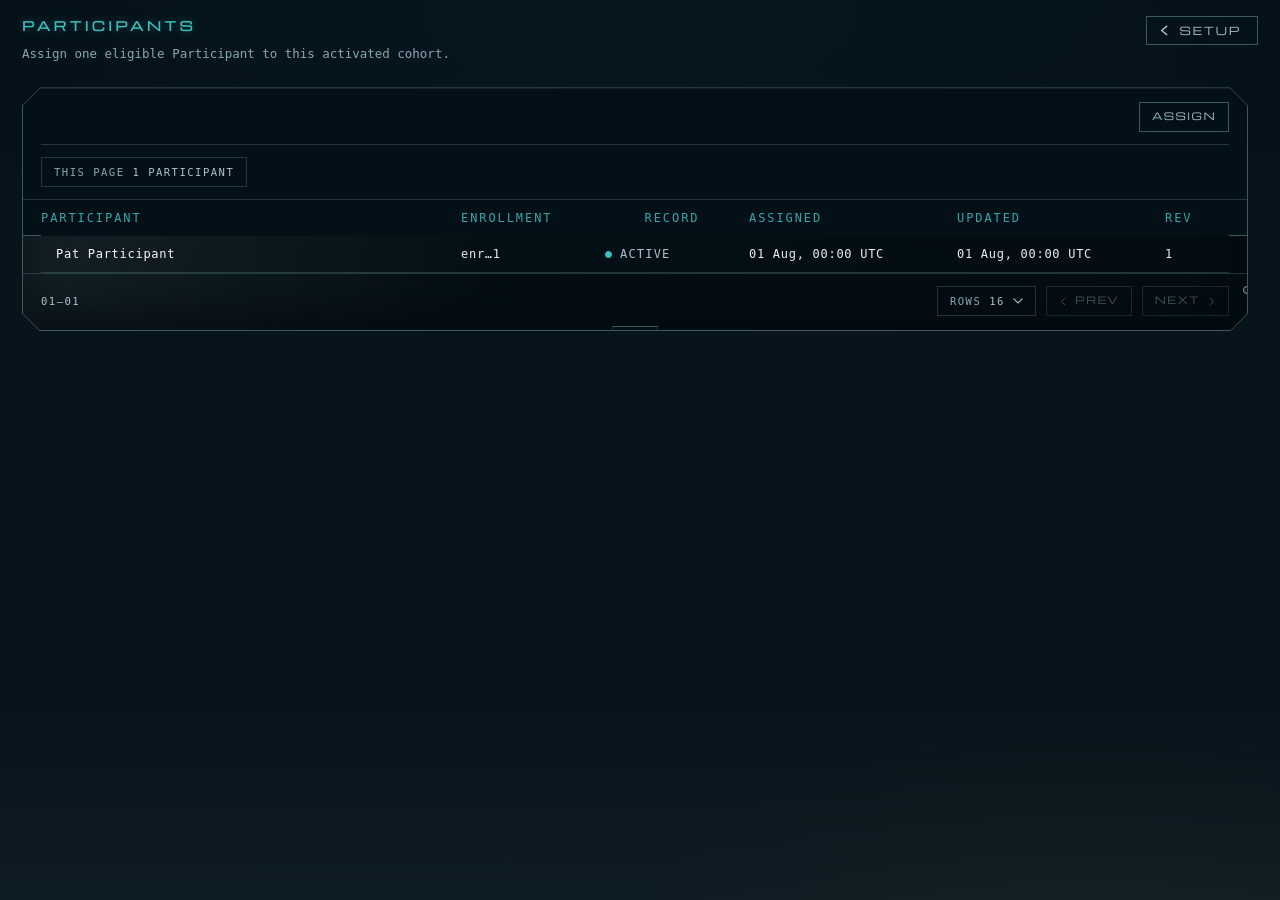
Test case: ProductionEnrollmentPage › assigns from a dialog table that still lists Participants already on the roster
Expected: the link "Pat Participant" is shown, 56,247 -> 175,261
Click the button "Assign": (1184, 117) 1139,102 -> 1229,132
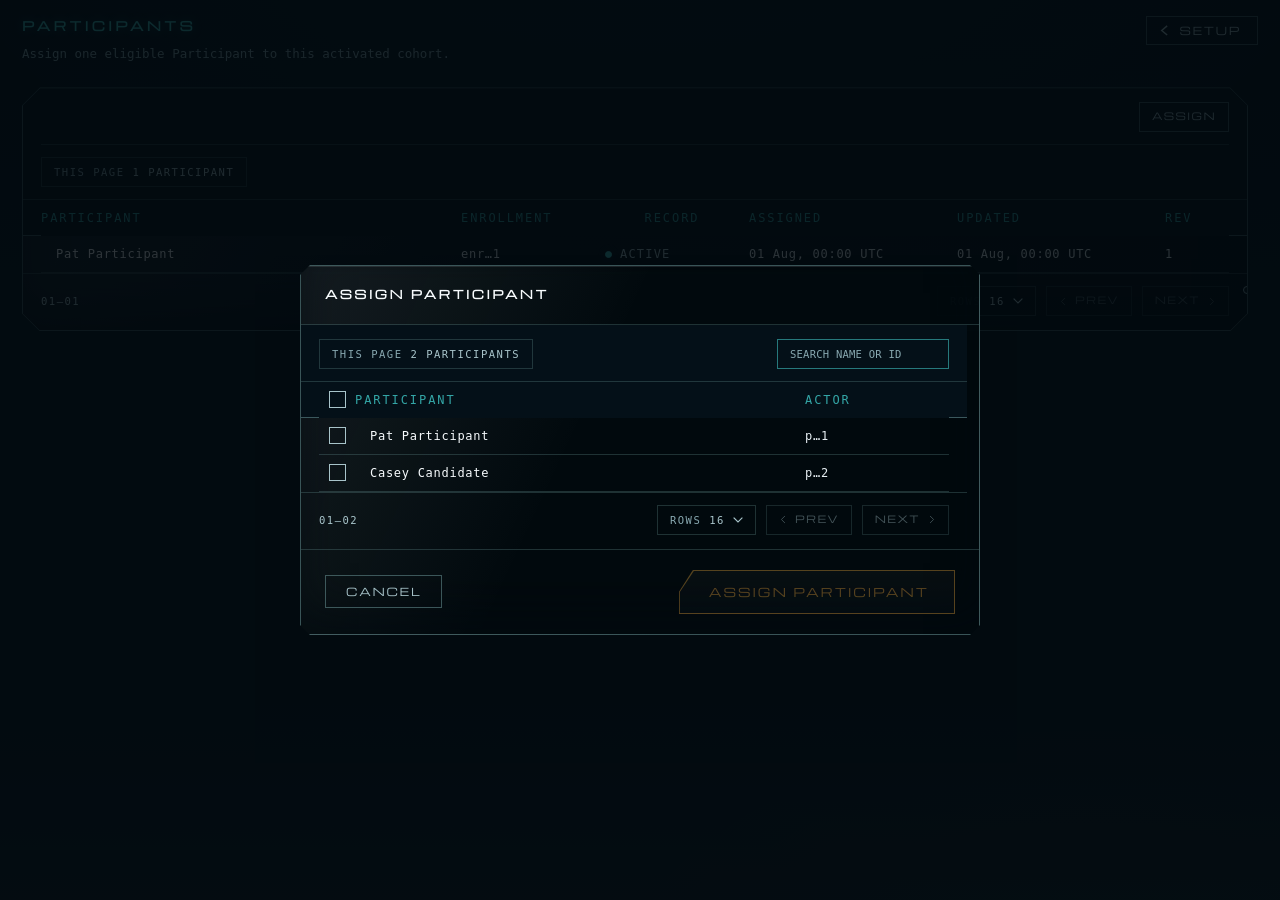
Expected: the element with class "dialog-plate--wide" is shown, 300,265 -> 980,635
Expected: the table named "Assignable Participants" is shown, 319,382 -> 949,492
Expected: the text "Participant" is shown, 355,393 -> 456,407
Hover over the text "p…2": (817, 476) 805,466 -> 829,486
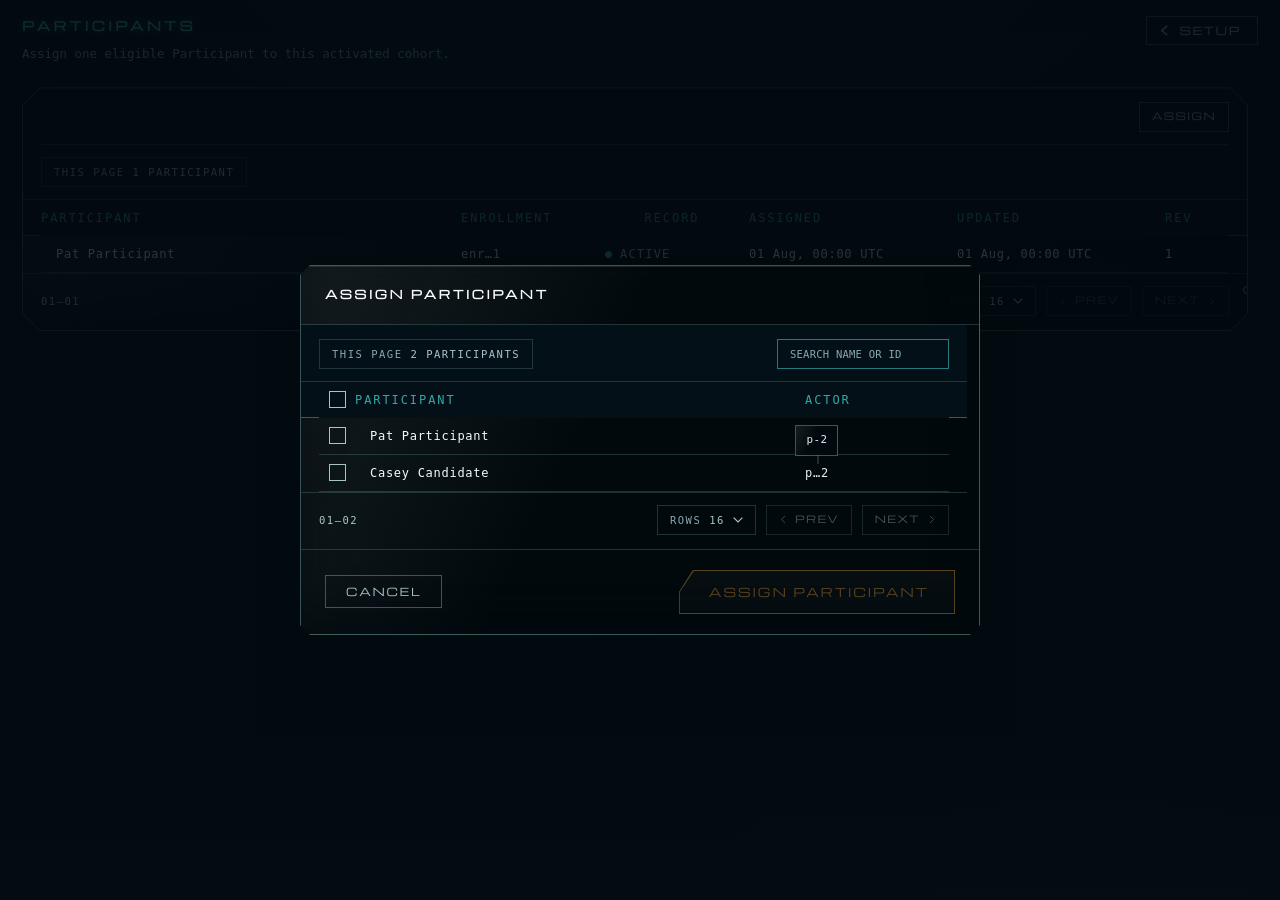
Expected: the tooltip reads "p-2", 806,433 -> 827,446
Hover over the element named "Select all visible participants" in the row of "Actor": (337, 400) 328,391 -> 346,408
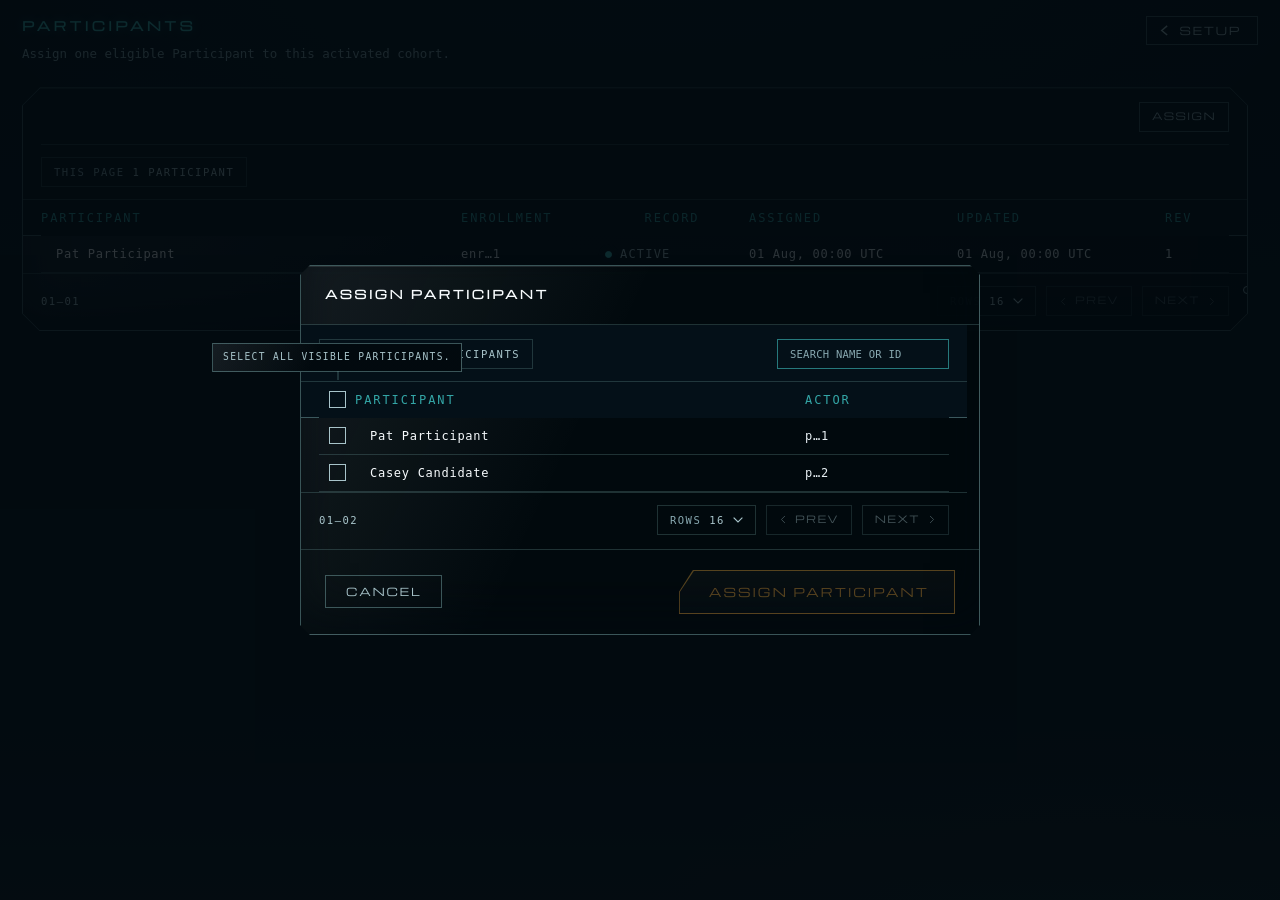
Expected: the button "Assign Participant" is disabled, 679,570 -> 955,614
Expected: the tooltip shows "Select all visible participants", 223,351 -> 451,362
Click the button "Casey Candidate": (422, 473) 355,466 -> 489,480
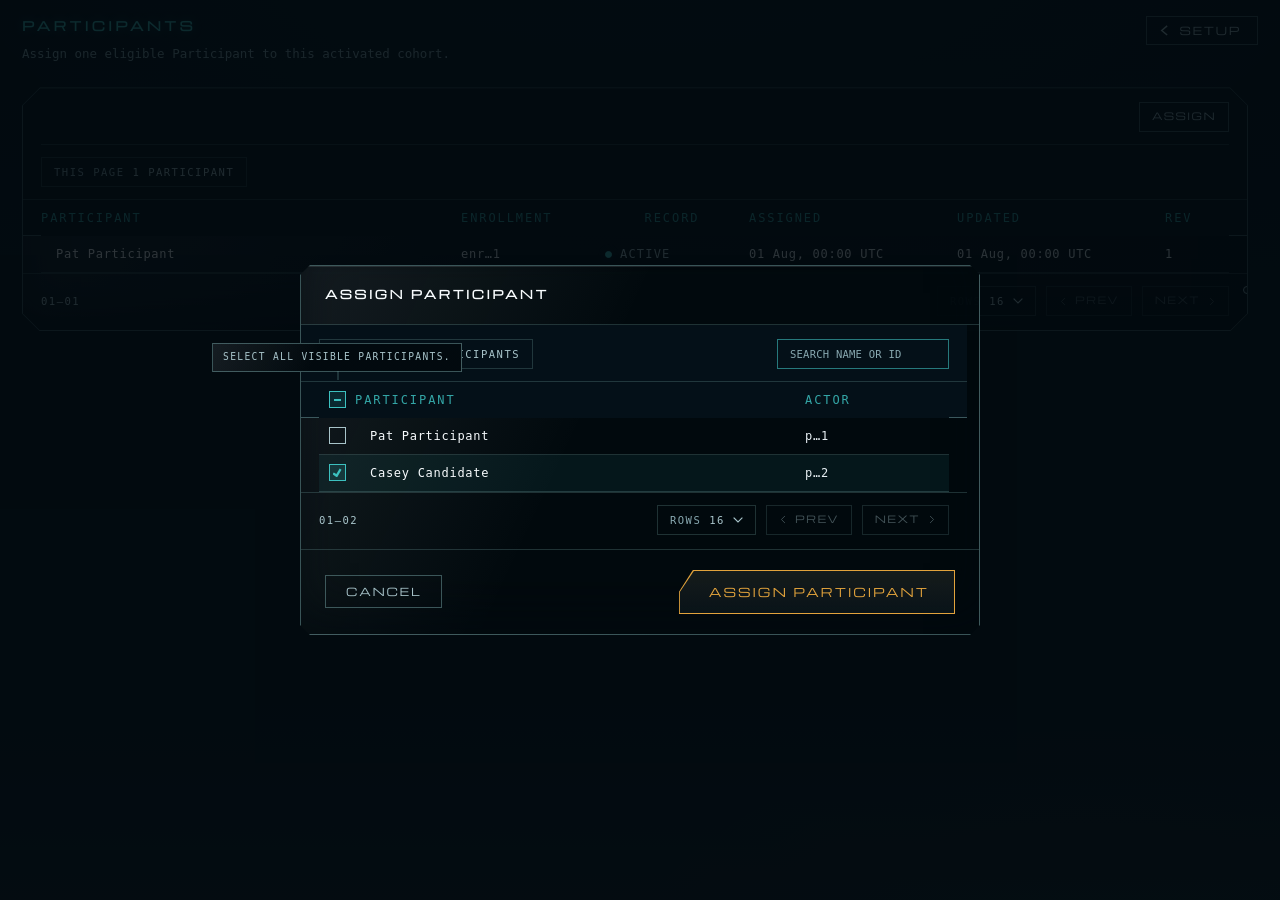
Expected: the button "Assign Participant" is enabled, 679,570 -> 955,614
Click the checkbox named "Select all visible participants": (337, 400) 328,391 -> 346,408
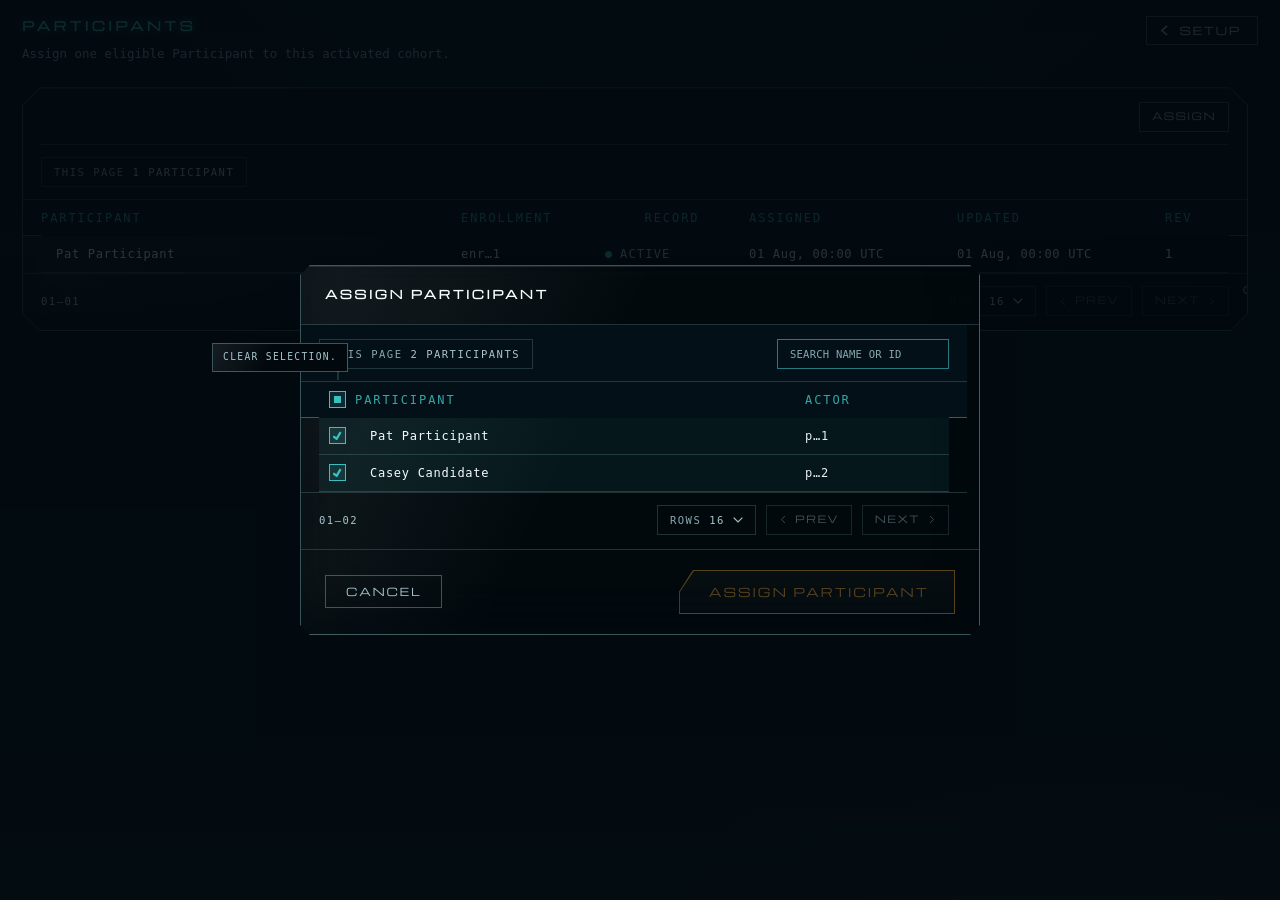
Expected: the button "Assign Participant" is disabled, 679,570 -> 955,614
